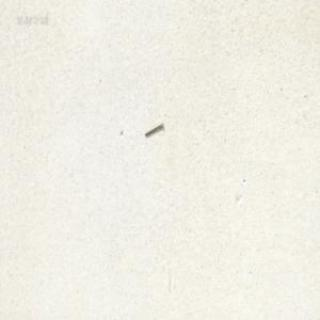Bolttrack_idkeyframe: (142, 120, 162, 136)
